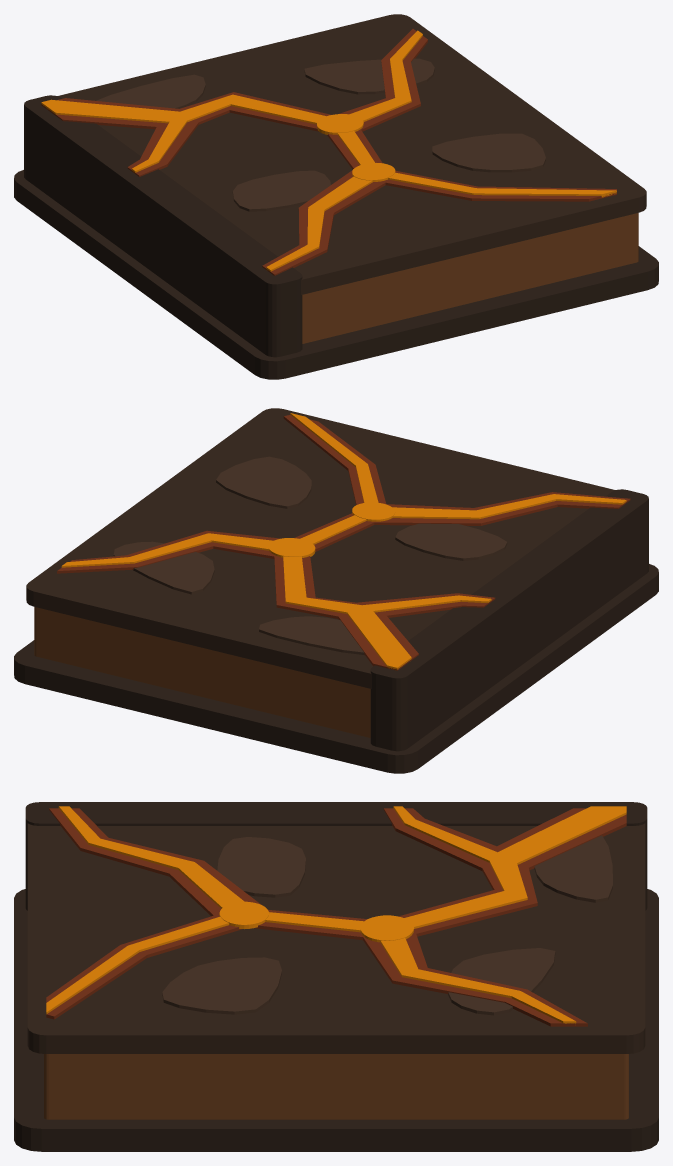
The model's file is book_lava.fbx.
3 renders of one model, top to bottom at view 1: azimuth 30°, elevation 25°; view 2: azimuth 150°, elevation 25°; view 3: azimuth 270°, elevation 25°, orthographic. The views are drawn at different scales.
Parts seen in each view (by area): view 1: book_lava_livro, book_lava_livro_neon; view 2: book_lava_livro, book_lava_livro_neon; view 3: book_lava_livro, book_lava_livro_neon.
Boxes of the visible parts, x1,y1,x2,y2 form: book_lava_livro: (14,14,658,379); book_lava_livro_neon: (41,30,616,271); book_lava_livro: (14,408,658,773); book_lava_livro_neon: (61,413,626,669); book_lava_livro: (14,802,658,1151); book_lava_livro_neon: (46,806,626,1023).
Size of the model in its own units: 2.49 by 0.562 by 2.8.
1 material, 1 textured.
